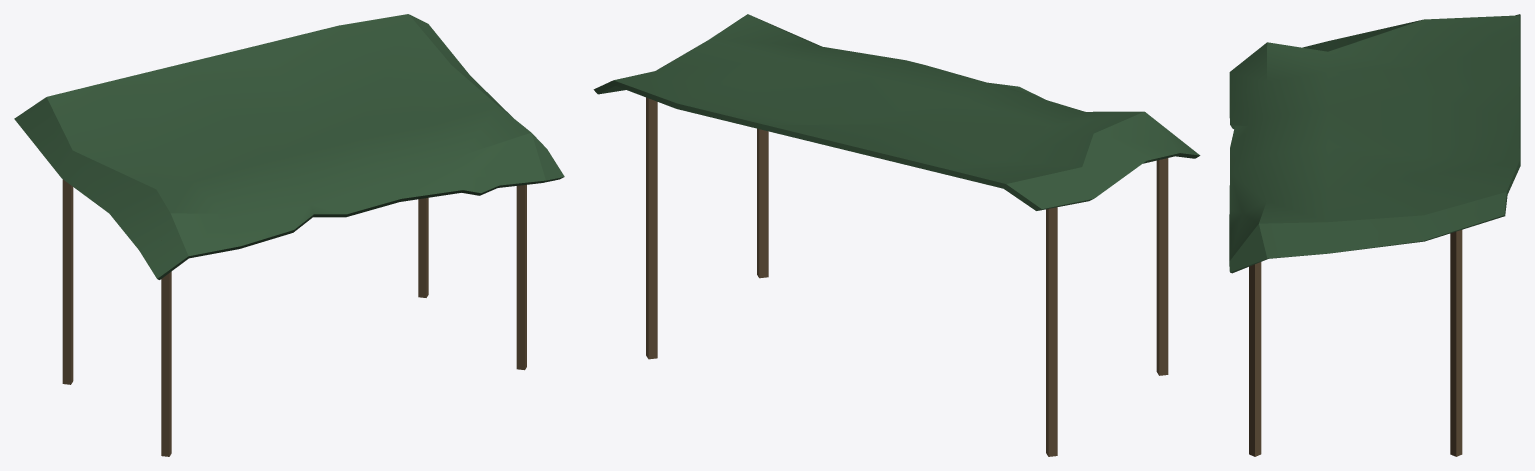
File: SM_Env_Stall_01.fbx
The picture shows the model from 3 angles, left to right: view 1: azimuth 30°, elevation 25°; view 2: azimuth 150°, elevation 25°; view 3: azimuth 270°, elevation 25°; orthographic projection. The views are drawn at different scales.
Visible parts, largest first — view 1: SM_Env_Stall_01; view 2: SM_Env_Stall_01; view 3: SM_Env_Stall_01.
Boxes of the visible parts, <box> form: SM_Env_Stall_01: <box>14,14,564,456</box>; SM_Env_Stall_01: <box>593,14,1200,456</box>; SM_Env_Stall_01: <box>1229,14,1520,456</box>.
Bounding box in the file's own units: 291 × 178 × 176.
1 material, 1 textured.
